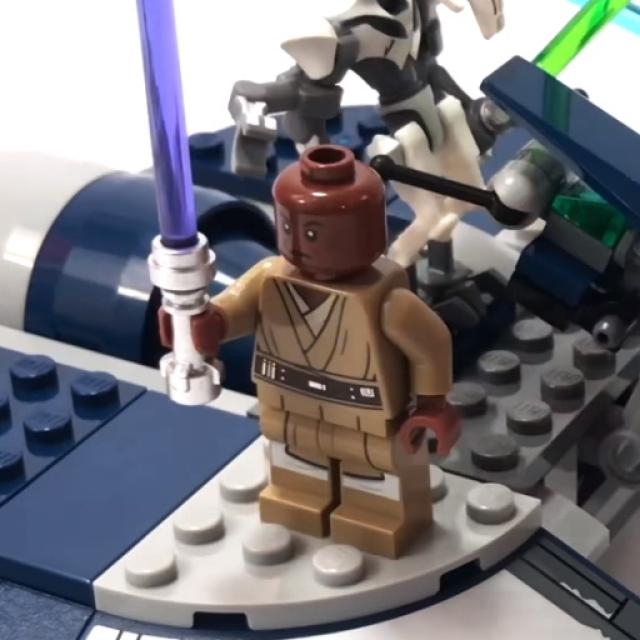Lego-Minifigures: (162, 128, 490, 591)
